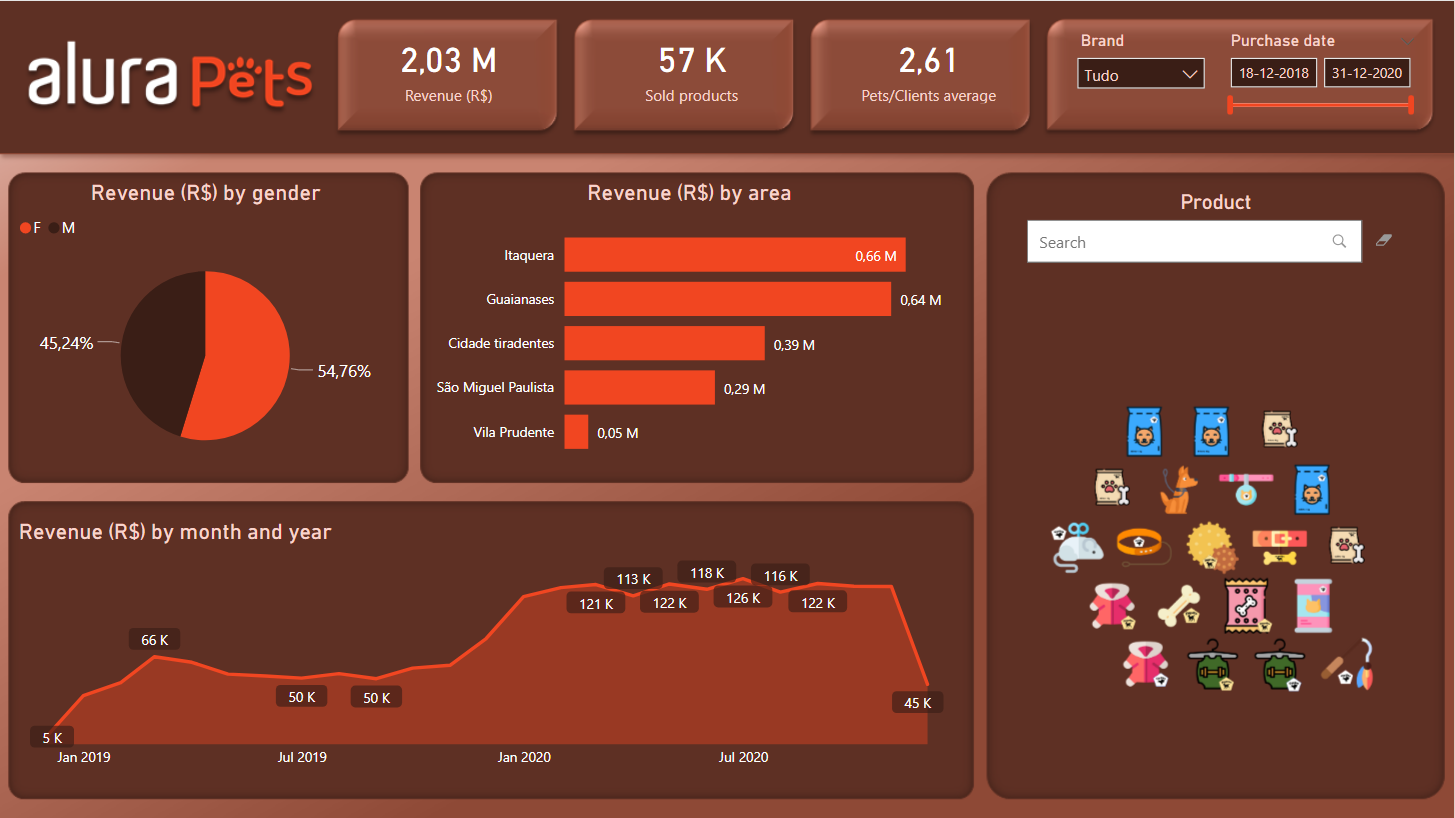

The dashboard page shown, as its layout file describes it:
{"tool":"powerbi","page":{"name":"Página 1","canvas":[1280,720],"ordinal":0},"visuals":[{"type":"card","fields":{"Values":["vendas.Faturamento total"]},"box":[289.2,16.7,213.6,84.4],"z":0},{"type":"card","fields":{"Values":["Avg(Clientes.Pets)"]},"box":[750.8,22,135.4,73],"z":1000},{"type":"pieChart","title":"Revenue (R$) by gender","fields":{"Category":["Clientes.Gênero"],"Y":["vendas.Faturamento total (R$)"]},"box":[13.2,157.4,338.5,258.5],"z":2000},{"type":"clusteredBarChart","title":"Revenue (R$) by area","fields":{"Category":["Clientes.Bairro"],"Y":["vendas.Faturamento total (R$)"]},"box":[371.9,157.4,472.1,258.5],"z":3000},{"type":"areaChart","title":"Revenue (R$) by month and year","fields":{"Category":["vendas.Data de compra.Variação.Hierarquia de Datas.Ano","vendas.Data de compra.Variação.Hierarquia de Datas.Trimestre","vendas.Data de compra.Variação.Hierarquia de Datas.Mês","vendas.Data de compra.Variação.Hierarquia de Datas.Dia"],"Y":["vendas.Faturamento total (R$)"]},"box":[13.2,455.4,830.8,227.7],"z":4000},{"type":"textFilter25A4896A83E0487089E2B90C9AE57C8A","title":"Product","fields":{"field":["Produtos.Nome produto"]},"box":[899.3,166.2,342.9,73],"z":5000},{"type":"slicer","fields":{"Values":["Produtos.Marca"]},"box":[938.9,22,131.9,59.8],"z":6000},{"type":"ImageGrid_FC5183B9_926C_45E0_B5F7_0CE9EAF1DA9B","fields":{"ImageURLHQ":["Produtos.Url img"]},"box":[877.4,268.1,380.7,424.6],"z":7000},{"type":"card","fields":{"Values":["Sum(vendas.Quantidade)"]},"box":[539.8,18.5,139.8,80],"z":8000},{"type":"slicer","fields":{"Values":["vendas.Data de compra"]},"box":[1070.8,22,187.3,87],"z":9000}]}

Visuals, with their boxes in screenshot pixels (x1, y1, x2, y2), scaled from the page's 1280x720 canvas onto the 1455x818 screenshot:
card - vendas.Faturamento total: 329, 19, 572, 115
card - Avg(Clientes.Pets): 853, 25, 1007, 108
"Revenue (R$) by gender" pieChart: 15, 179, 400, 473
"Revenue (R$) by area" clusteredBarChart: 423, 179, 959, 473
"Revenue (R$) by month and year" areaChart: 15, 517, 959, 776
"Product" textFilter25A4896A83E0487089E2B90C9AE57C8A: 1022, 189, 1412, 272
slicer - Produtos.Marca: 1067, 25, 1217, 93
ImageGrid_FC5183B9_926C_45E0_B5F7_0CE9EAF1DA9B - Produtos.Url img: 997, 305, 1430, 787
card - Sum(vendas.Quantidade): 614, 21, 773, 112
slicer - vendas.Data de compra: 1217, 25, 1430, 124
